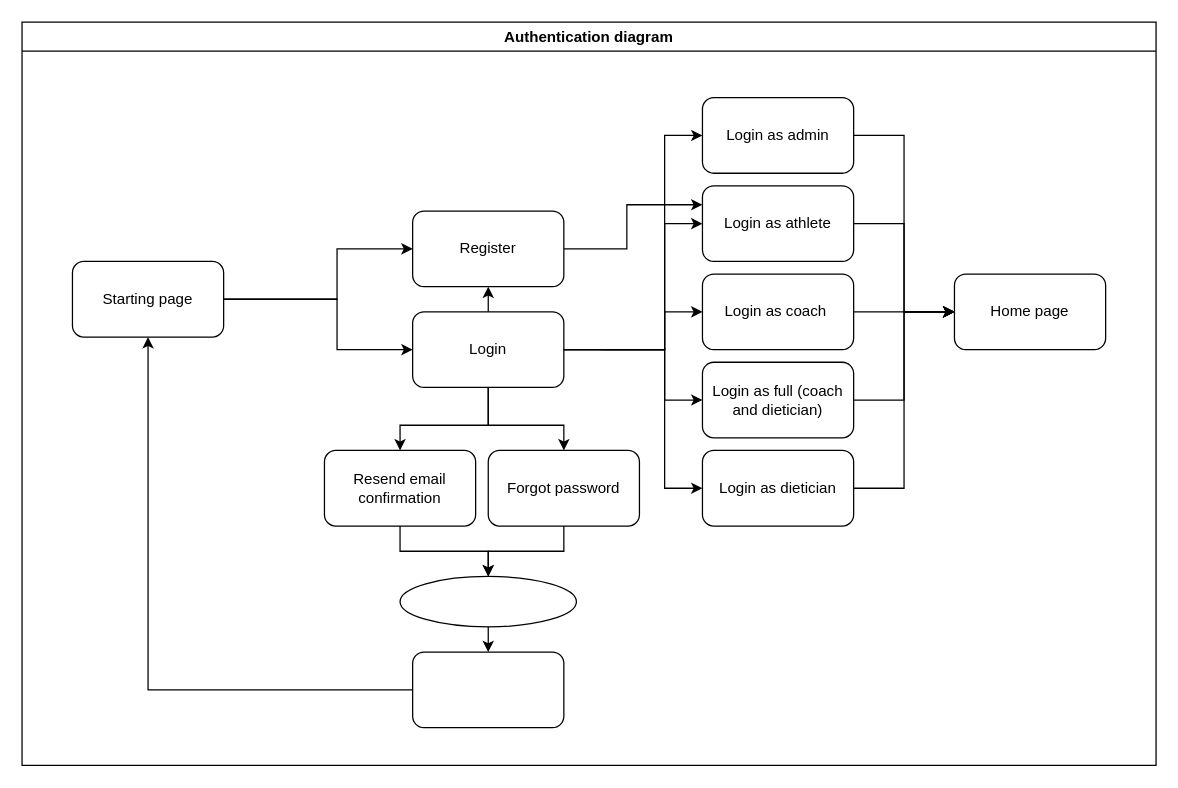
Some shapes in this 1178 by 788 pixel diagram are drawn without their labels. Each missing label, with the centre of its shape:
"Adequate confirmation screen" belongs at (x=487, y=689).
"Send adequate email" belongs at (x=487, y=601).
